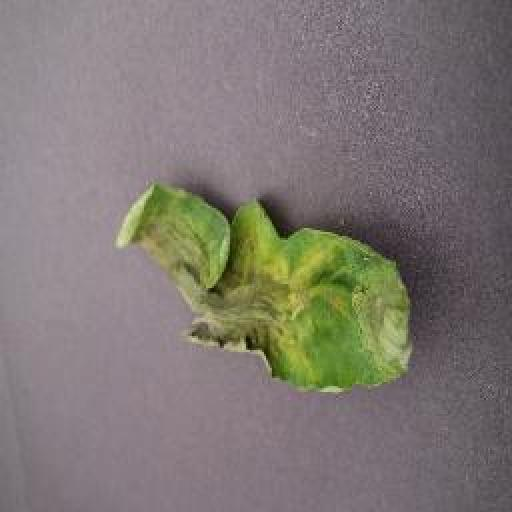disease_tomato: (114, 166, 416, 402)
